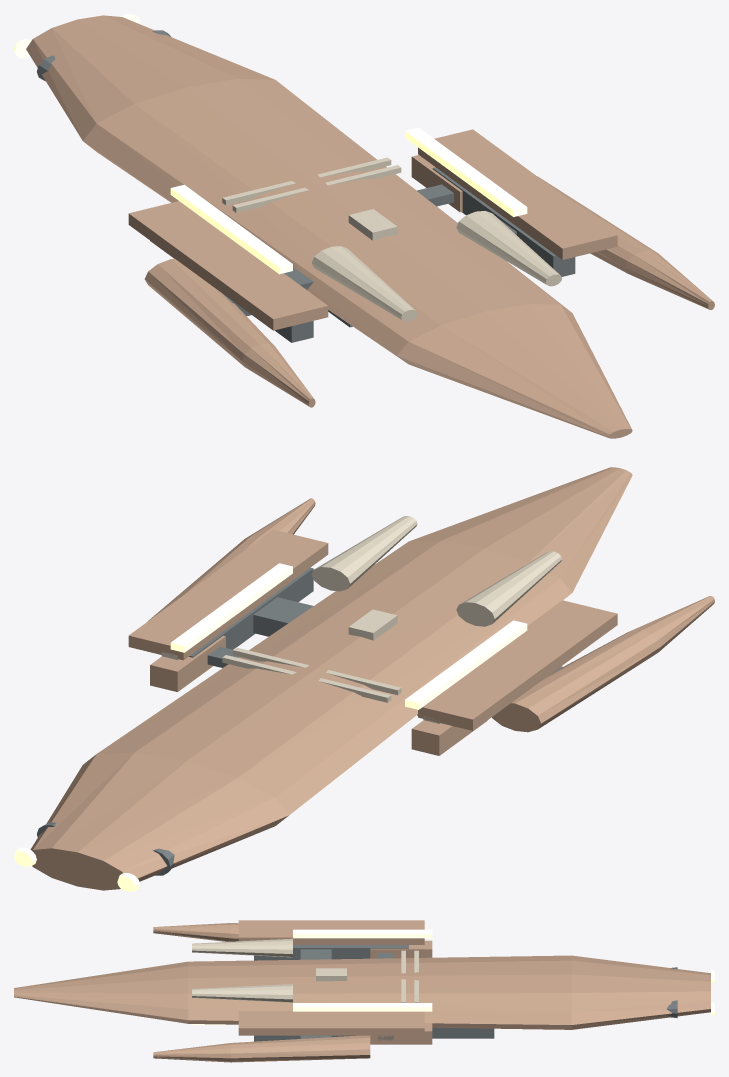
3 renders of one model, top to bottom at view 1: azimuth 30°, elevation 25°; view 2: azimuth 150°, elevation 25°; view 3: azimuth 270°, elevation 25°, orthographic. The views are drawn at different scales.
Bounding box in the file's own units: 7.3 × 1.62 × 16.47.
